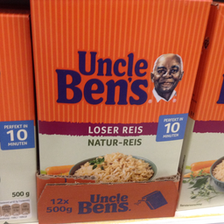rice: (29, 1, 213, 179)
